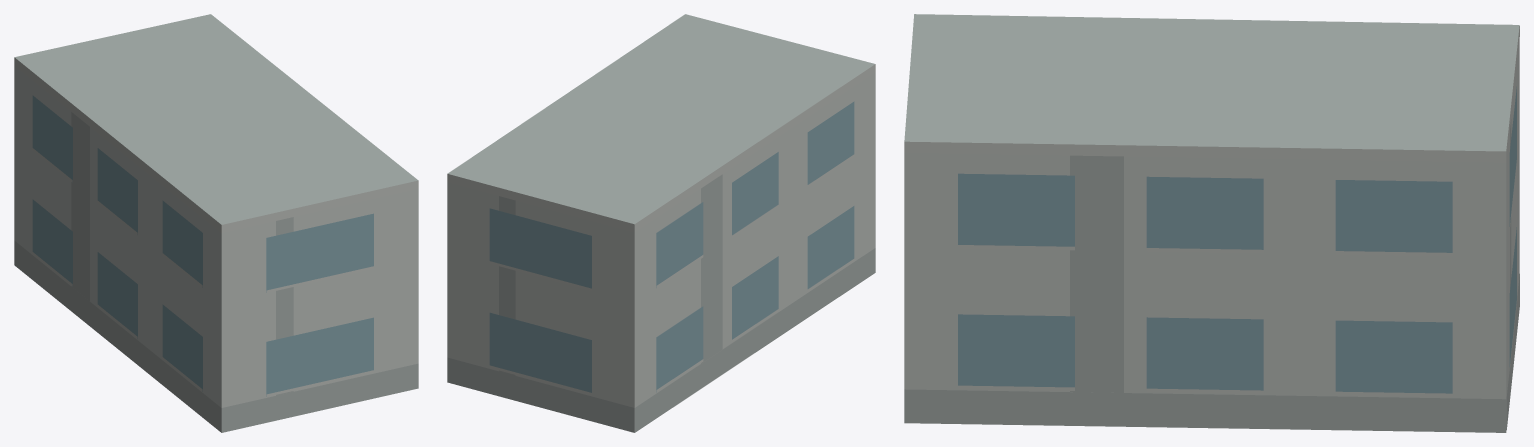
Rendered from survey-upis-32704479.glb.
3 renders of one model, left to right at view 1: azimuth 30°, elevation 25°; view 2: azimuth 150°, elevation 25°; view 3: azimuth 270°, elevation 25°, orthographic. The views are drawn at different scales.
Parts seen in each view (by area): view 1: survey-upis-32704479.tmp; view 2: survey-upis-32704479.tmp; view 3: survey-upis-32704479.tmp.
Part boxes in pixels (x1,y1,x2,y2): survey-upis-32704479.tmp: (14, 14, 418, 432); survey-upis-32704479.tmp: (447, 14, 875, 432); survey-upis-32704479.tmp: (904, 14, 1519, 432).
Size of the model in its own units: 6.4 by 6.1 by 12.1.
